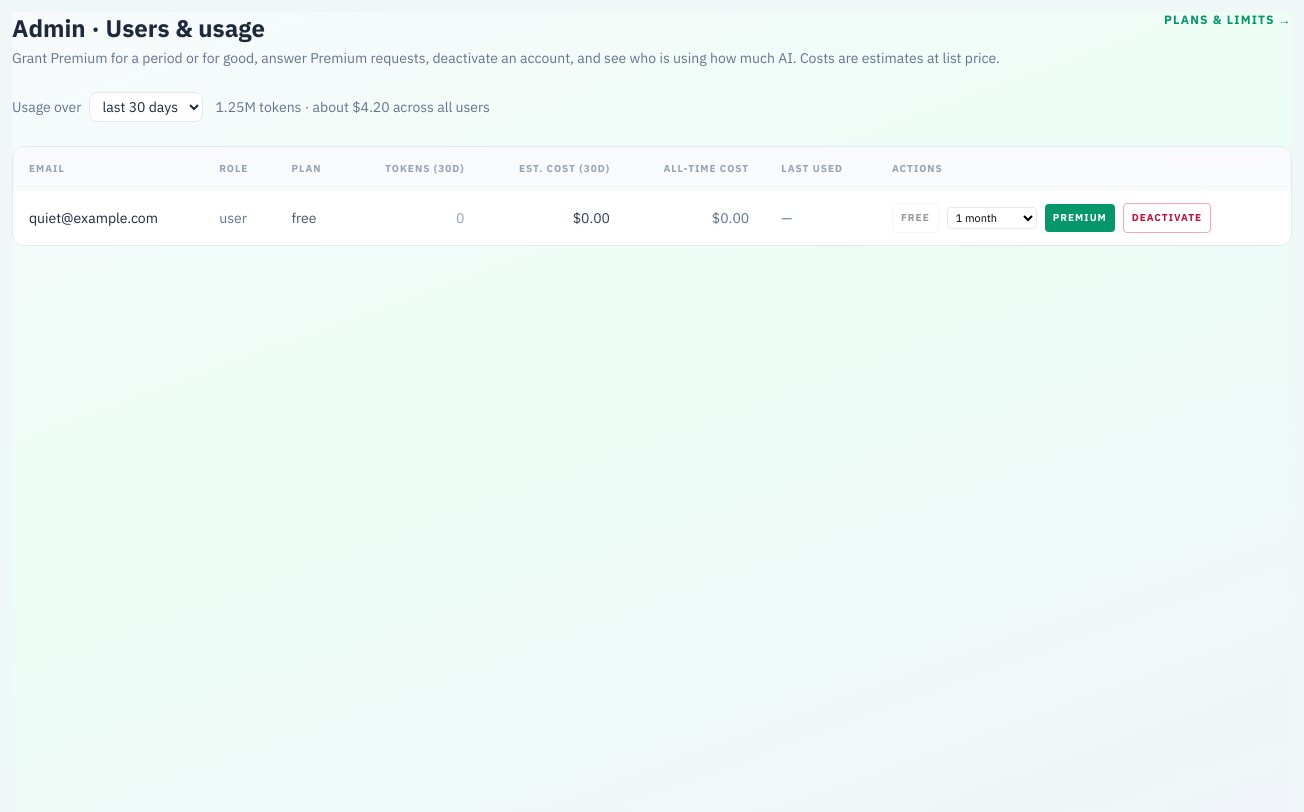
Test: AdminUsersPage plans › grants Premium for a month by default
Click the button with aria-label "Grant Premium for quiet@example.com".
click(1080, 218)  # box [1045,204,1115,232]
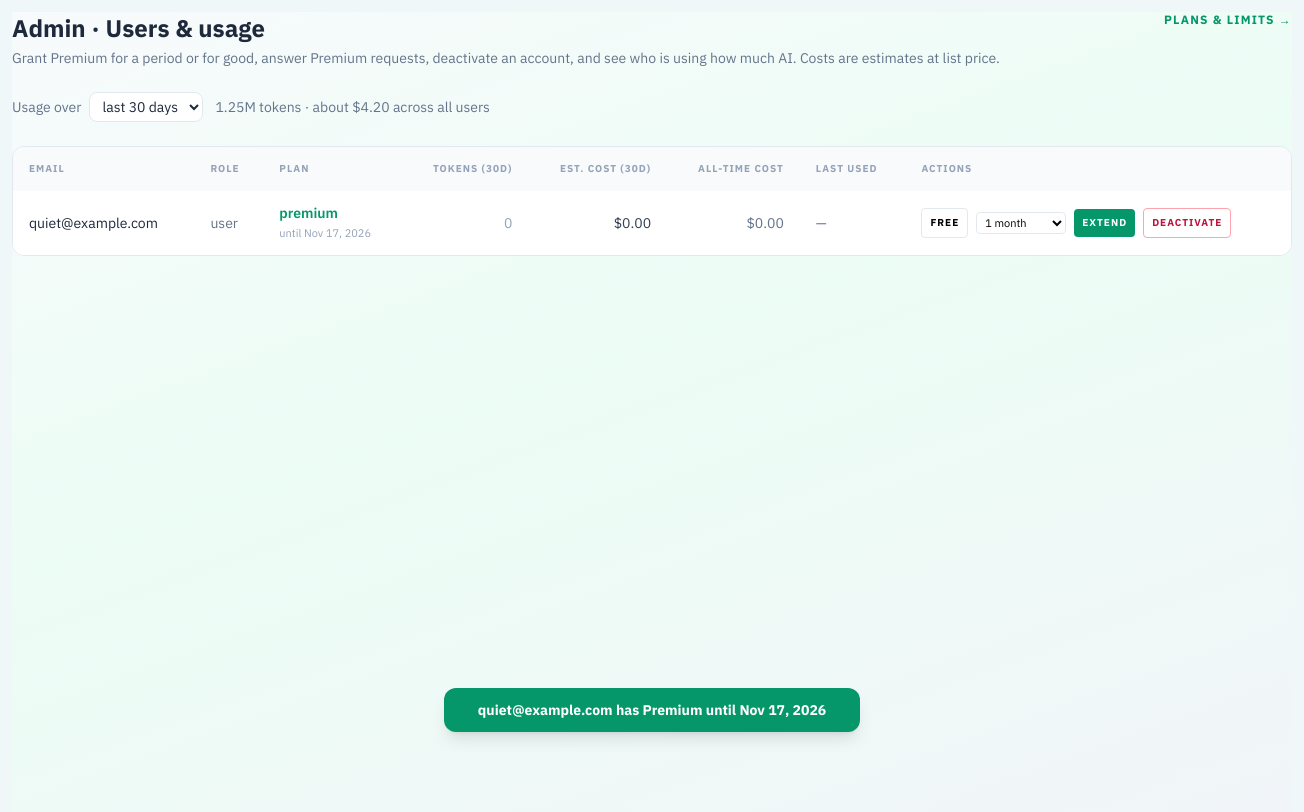
Result: the text "until Nov 17, 2026" is shown at [279,223,387,243]
